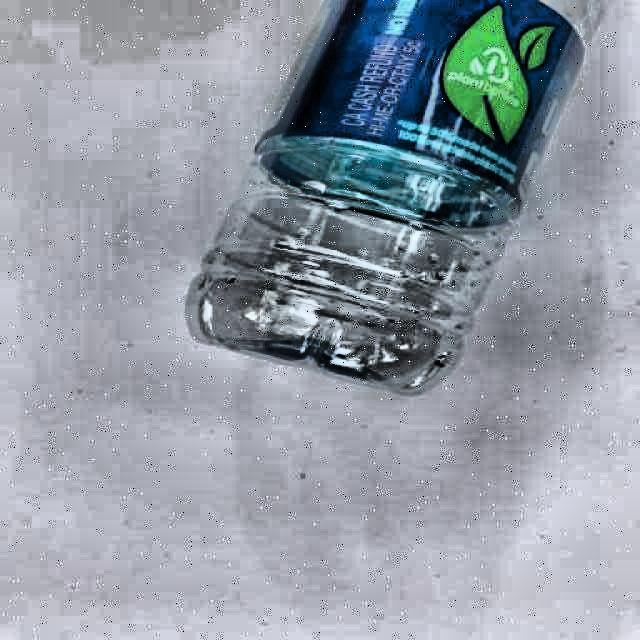plastic: (188, 0, 608, 391)
